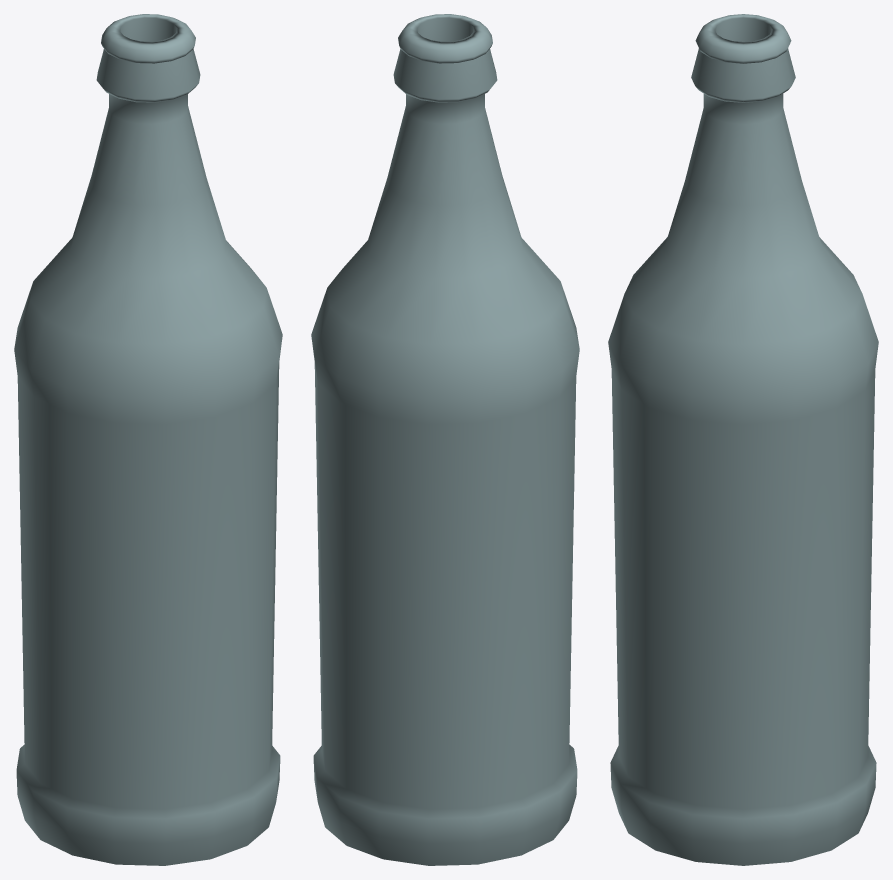
Rendered from SM_Molotov.fbx.
3 views of the same model, side by side, from view 1: azimuth 30°, elevation 25°; view 2: azimuth 150°, elevation 25°; view 3: azimuth 270°, elevation 25° (orthographic).
Parts seen in each view (by area): view 1: SM_Bottle; view 2: SM_Bottle; view 3: SM_Bottle.
Part boxes in pixels (box(x1,y1,x2,y2)): SM_Bottle: box(14, 14, 282, 865); SM_Bottle: box(311, 14, 579, 865); SM_Bottle: box(608, 14, 878, 865).
Bounding box in the file's own units: 8.94 × 28.55 × 8.94.
